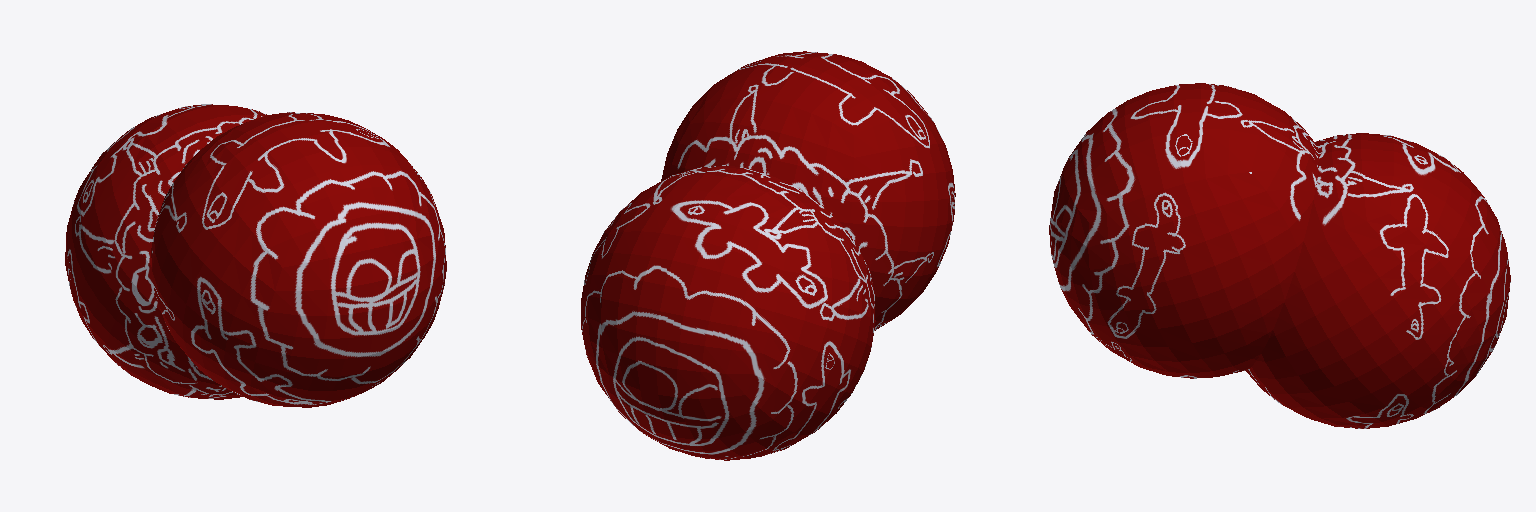
3 renders of one model, left to right at view 1: azimuth 30°, elevation 25°; view 2: azimuth 150°, elevation 25°; view 3: azimuth 270°, elevation 25°, orthographic.
Visible parts, largest first — view 1: balls_Sphere.001; view 2: balls_Sphere.001; view 3: balls_Sphere.001.
Boxes of the visible parts, <box> form: balls_Sphere.001: <box>65,104,446,407</box>; balls_Sphere.001: <box>581,51,955,460</box>; balls_Sphere.001: <box>1049,83,1510,428</box>.
Size of the model in its own units: 1.14 by 1.35 by 1.76.
Materials: 1 (1 with a texture image).